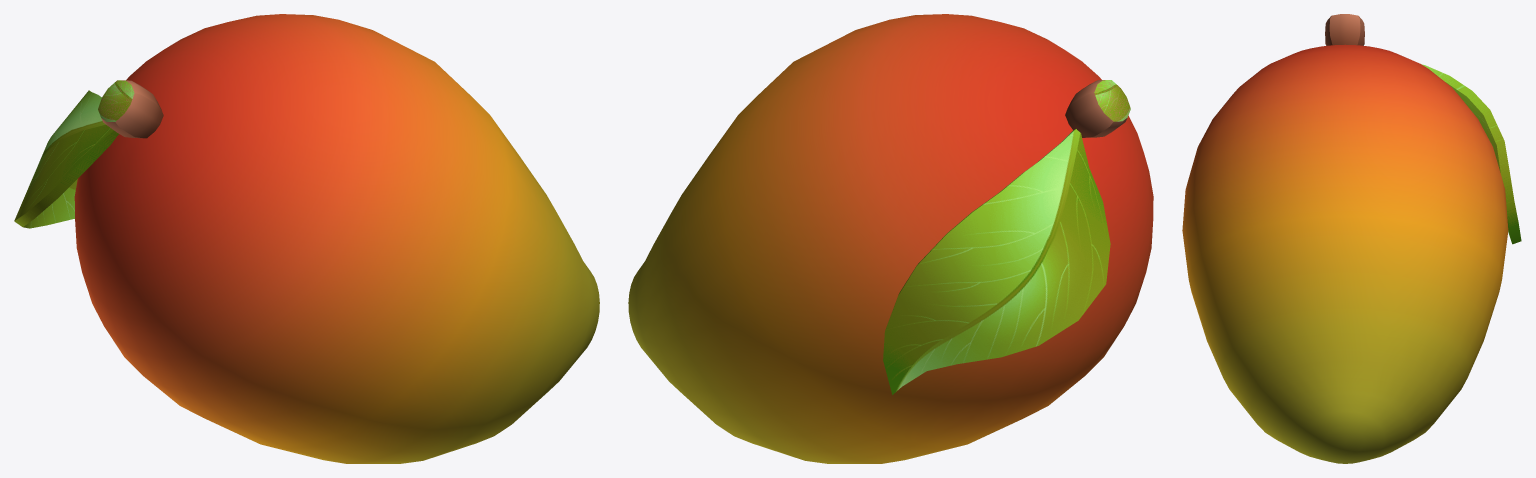
File: Mango.fbx
3 renders of one model, left to right at view 1: azimuth 30°, elevation 25°; view 2: azimuth 150°, elevation 25°; view 3: azimuth 270°, elevation 25°, orthographic. The views are drawn at different scales.
Parts seen in each view (by area): view 1: Mango; view 2: Mango; view 3: Mango.
Boxes of the visible parts, <box> form: Mango: <box>14,14,599,463</box>; Mango: <box>628,14,1153,463</box>; Mango: <box>1182,14,1521,463</box>.
Bounding box in the file's own units: 14.88 × 12.08 × 11.04.
